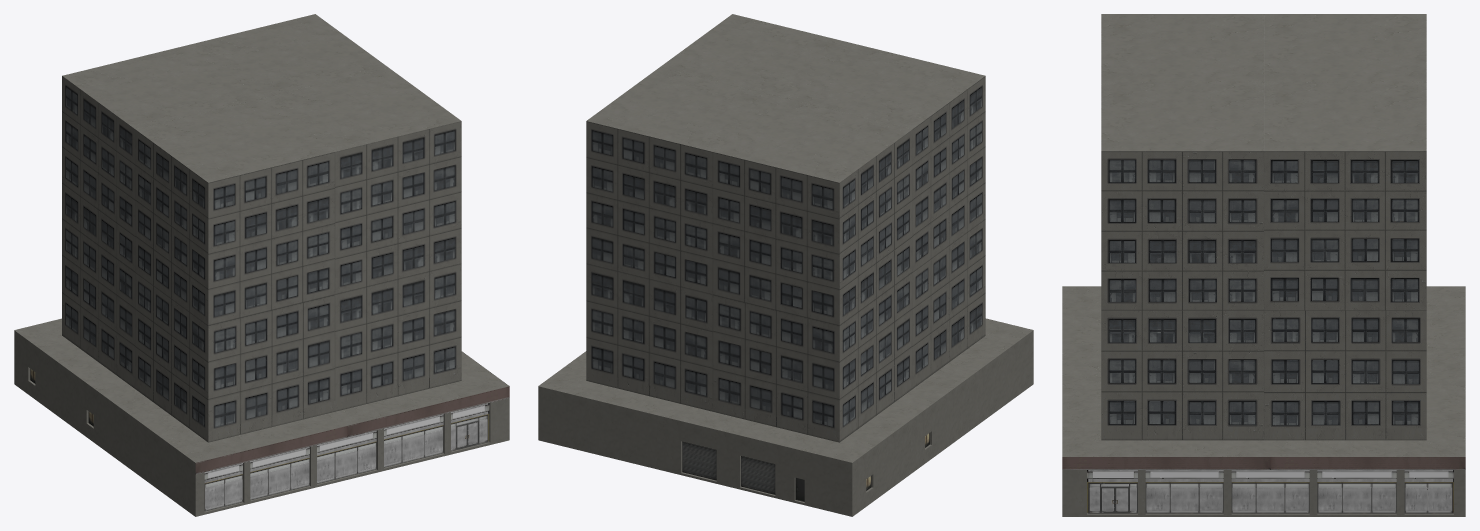
File: office_building_2.fbx
3 views of the same model, side by side, from view 1: azimuth 30°, elevation 25°; view 2: azimuth 150°, elevation 25°; view 3: azimuth 270°, elevation 25° (orthographic). The views are drawn at different scales.
Visible parts, largest first — view 1: office_building_2; view 2: office_building_2; view 3: office_building_2.
Boxes of the visible parts, x1,y1,x2,y2 form: office_building_2: (14,14,509,516); office_building_2: (538,14,1033,516); office_building_2: (1062,14,1465,516).
Bounding box in the file's own units: 3101 × 2960 × 3101.
